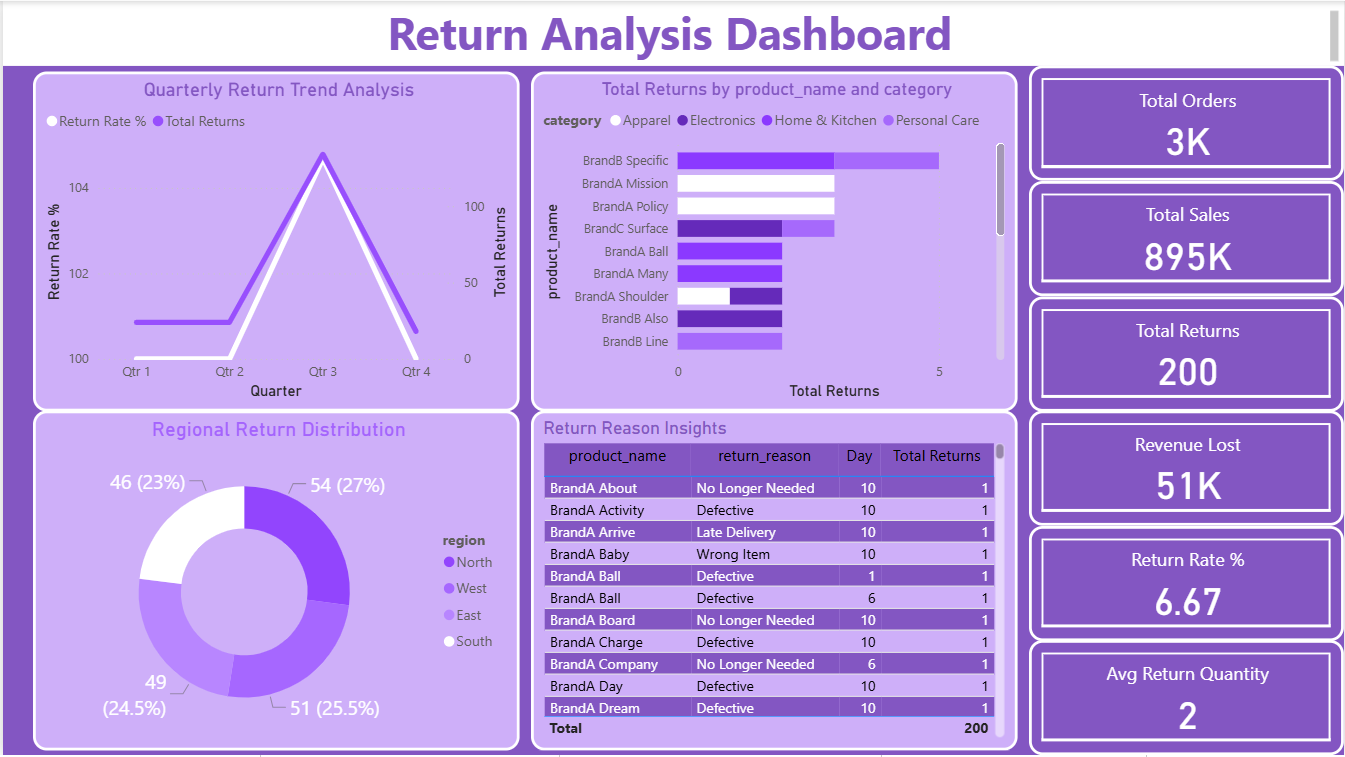

What the dashboard file says about the page in this screenshot:
{"tool":"powerbi","page":{"name":"Return Analysis_Dashboard","canvas":[1280,720],"ordinal":4},"visuals":[{"type":"textbox","box":[0,0,1280.4,62],"z":0},{"type":"donutChart","title":"Regional Return Distribution","fields":{"Category":["customers_clean.region"],"Y":["returns_clean.Total Returns"]},"box":[28.6,391.3,464.5,324.5],"z":1000},{"type":"barChart","fields":{"Category":["products_clean.product_name"],"Series":["products_clean.category"],"Y":["returns_clean.Total Returns"]},"box":[504.2,66.8,464.5,324.5],"z":2000},{"type":"cardVisual","fields":{"Data":["returns_clean.Avg Return Quantity"]},"box":[979.8,610.8,300.6,109.8],"z":3000},{"type":"cardVisual","fields":{"Data":["products_clean.Return Rate %"]},"box":[979.8,501,300.6,109.8],"z":4000},{"type":"cardVisual","fields":{"Data":["sales_clean.Total Orders"]},"box":[979.8,62,300.6,110],"z":5000},{"type":"lineChart","title":"Quarterly Return Trend Analysis","fields":{"Category":["returns_clean.return_date.Variation.Date Hierarchy.Year","returns_clean.return_date.Variation.Date Hierarchy.Quarter","returns_clean.return_date.Variation.Date Hierarchy.Month","returns_clean.return_date.Variation.Date Hierarchy.Day"],"Y":["products_clean.Return Rate %"],"Y2":["returns_clean.Total Returns"]},"box":[28.6,66.8,464.5,324.5],"z":6000},{"type":"tableEx","title":"Return Reason Insights","fields":{"Values":["products_clean.product_name","returns_clean.return_reason","returns_clean.return_date.Variation.Date Hierarchy.Day","returns_clean.Total Returns"]},"box":[504.2,391.3,464.5,324.5],"z":7000},{"type":"cardVisual","fields":{"Data":["returns_clean.Total Returns"]},"box":[979.8,281.5,300.6,109.8],"z":8000},{"type":"cardVisual","fields":{"Data":["sales_clean.Total Sales"]},"box":[979.8,171.8,300.6,109.8],"z":9000},{"type":"cardVisual","fields":{"Data":["returns_clean.Revenue Lost"]},"box":[979.8,391.3,300.6,109.8],"z":10000}]}

Visuals, with their boxes in screenshot pixels (x1, y1, x2, y2), scaled from the page's 1280x720 canvas onto the 1345x757 screenshot:
textbox: [0, 0, 1344, 65]
"Regional Return Distribution" donutChart: [30, 411, 518, 753]
barChart - products_clean.product_name x products_clean.category: [530, 70, 1018, 411]
cardVisual - returns_clean.Avg Return Quantity: [1030, 642, 1344, 756]
cardVisual - products_clean.Return Rate %: [1030, 527, 1344, 642]
cardVisual - sales_clean.Total Orders: [1030, 65, 1344, 181]
"Quarterly Return Trend Analysis" lineChart: [30, 70, 518, 411]
"Return Reason Insights" tableEx: [530, 411, 1018, 753]
cardVisual - returns_clean.Total Returns: [1030, 296, 1344, 411]
cardVisual - sales_clean.Total Sales: [1030, 181, 1344, 296]
cardVisual - returns_clean.Revenue Lost: [1030, 411, 1344, 527]
